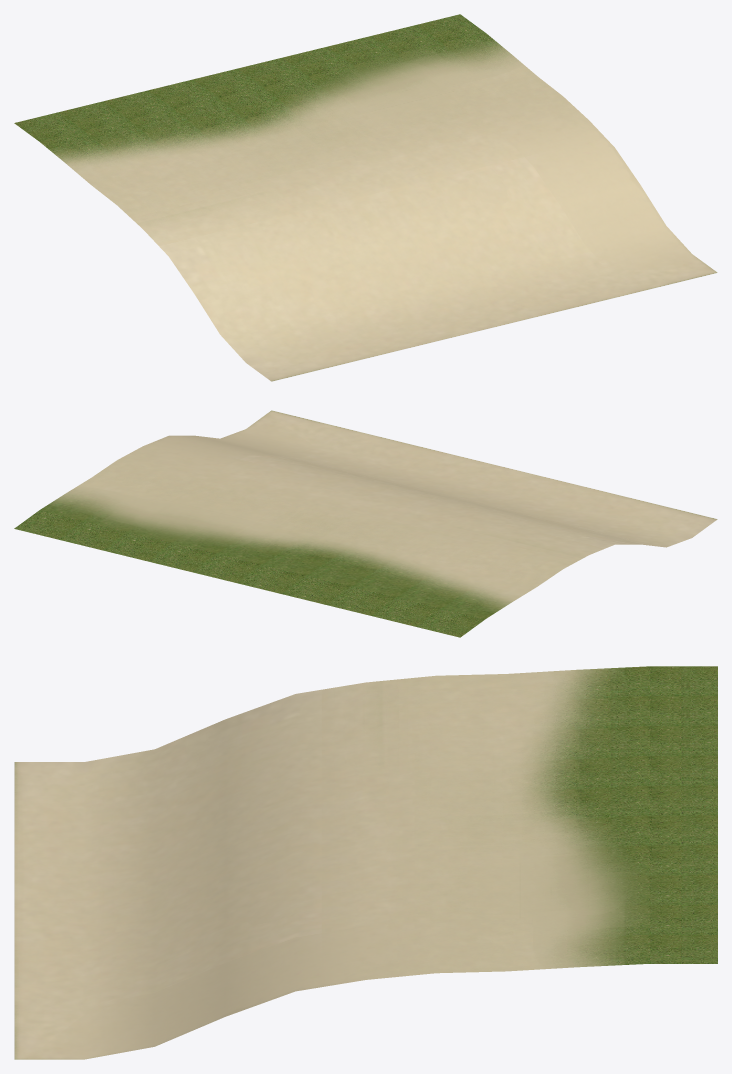
File: Beach Chunk.obj
The picture shows the model from 3 angles, top to bottom: view 1: azimuth 30°, elevation 25°; view 2: azimuth 150°, elevation 25°; view 3: azimuth 270°, elevation 25°; orthographic projection. The views are drawn at different scales.
Visible parts, largest first — view 1: Plane; view 2: Plane; view 3: Plane.
Boxes of the visible parts, box(x1,y1,x2,y2) form: Plane: box(14, 14, 717, 381); Plane: box(14, 410, 717, 637); Plane: box(14, 666, 717, 1059).
Bounding box in the file's own units: 10 × 1.5 × 10.
